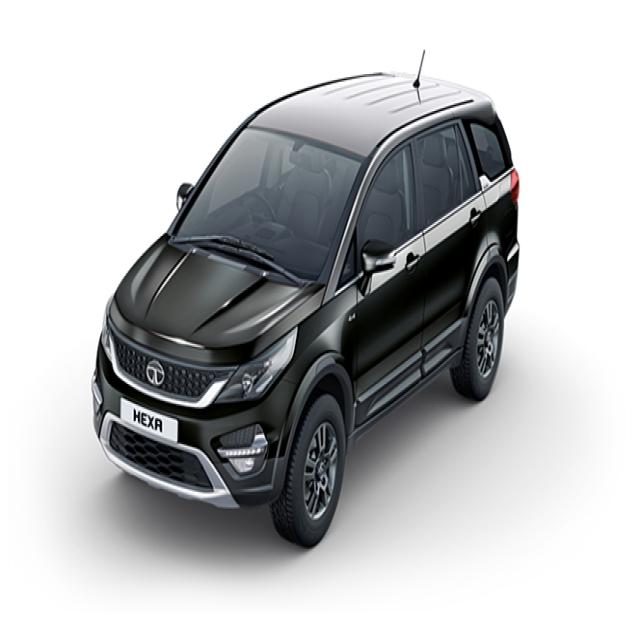Car: (86, 42, 524, 546)
